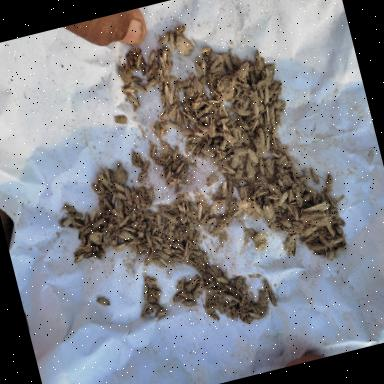pbw: (249, 48, 266, 74), (234, 60, 253, 82), (248, 90, 264, 116), (163, 82, 179, 108), (180, 106, 200, 126), (142, 60, 162, 80), (188, 93, 208, 112), (221, 126, 238, 148), (115, 225, 135, 243), (222, 178, 238, 200), (304, 238, 326, 254), (184, 274, 203, 292), (234, 288, 252, 307), (206, 57, 225, 75), (136, 298, 153, 318), (98, 170, 112, 194), (323, 189, 339, 210), (130, 46, 144, 70), (138, 252, 156, 270), (156, 50, 168, 76), (259, 131, 273, 153), (268, 82, 284, 101), (265, 180, 281, 199), (266, 104, 278, 129), (218, 162, 236, 178), (265, 284, 277, 308), (280, 216, 296, 234), (194, 200, 207, 222), (322, 172, 335, 193), (246, 117, 261, 135), (102, 194, 114, 216), (162, 208, 178, 224), (275, 191, 291, 207), (252, 238, 268, 254), (172, 276, 188, 292), (156, 31, 172, 47), (180, 240, 194, 258), (144, 48, 158, 66), (210, 196, 228, 210), (216, 180, 230, 198), (126, 90, 140, 108), (260, 84, 272, 104), (136, 186, 148, 206), (308, 166, 320, 186), (331, 214, 346, 230), (90, 215, 106, 230), (192, 60, 204, 80), (180, 298, 200, 310), (144, 184, 156, 204), (190, 230, 204, 247), (256, 156, 267, 177), (90, 243, 105, 258), (172, 160, 188, 174), (232, 144, 248, 158), (116, 214, 132, 228), (147, 142, 159, 160), (140, 284, 152, 302), (144, 231, 154, 252), (280, 223, 295, 237), (172, 23, 188, 36), (155, 220, 168, 236), (251, 230, 267, 243), (169, 239, 185, 252), (204, 174, 220, 187), (164, 57, 176, 74), (168, 31, 178, 51), (292, 186, 302, 206), (190, 76, 201, 94), (157, 247, 171, 261), (144, 76, 158, 90), (134, 81, 148, 95), (192, 142, 206, 156), (206, 310, 220, 324), (164, 118, 178, 132), (170, 292, 186, 304), (72, 252, 88, 264), (324, 222, 336, 238), (242, 158, 254, 174), (141, 208, 157, 220), (200, 147, 216, 159), (137, 57, 147, 76), (125, 51, 135, 70), (116, 64, 127, 81), (284, 201, 295, 218), (156, 109, 170, 122), (193, 127, 207, 140), (62, 201, 76, 214), (324, 247, 336, 262), (199, 60, 209, 78), (247, 308, 262, 320), (130, 188, 140, 206), (95, 200, 106, 216), (304, 184, 317, 197), (228, 292, 240, 306), (206, 202, 218, 216), (122, 224, 136, 236), (271, 147, 283, 161), (168, 174, 182, 186), (153, 156, 167, 168), (178, 125, 192, 137), (178, 78, 192, 90), (88, 208, 100, 222), (216, 274, 230, 286), (154, 305, 168, 317), (144, 274, 158, 286), (60, 216, 74, 228), (183, 202, 192, 220), (170, 145, 180, 161), (156, 91, 166, 107), (329, 236, 345, 246), (318, 232, 328, 248), (112, 242, 128, 252), (151, 234, 164, 246), (79, 225, 93, 236), (225, 280, 236, 294), (262, 166, 272, 181), (96, 190, 111, 200), (154, 212, 163, 228), (240, 173, 252, 185), (174, 251, 186, 263), (115, 190, 127, 202), (162, 84, 171, 100), (140, 160, 152, 172), (80, 211, 90, 225), (121, 84, 135, 94), (204, 216, 218, 226), (135, 170, 149, 180), (174, 106, 182, 123), (123, 186, 132, 201), (195, 122, 206, 134), (113, 180, 124, 192), (158, 255, 168, 268), (200, 47, 213, 57), (202, 250, 210, 266), (109, 191, 118, 205), (159, 48, 168, 62), (268, 86, 280, 96), (215, 148, 227, 158), (161, 247, 172, 257), (301, 193, 312, 203), (298, 175, 310, 184), (204, 135, 213, 147), (157, 78, 164, 92), (130, 74, 142, 82), (82, 251, 94, 259), (164, 171, 172, 182), (232, 208, 243, 216), (193, 249, 203, 256), (150, 123, 156, 133)
